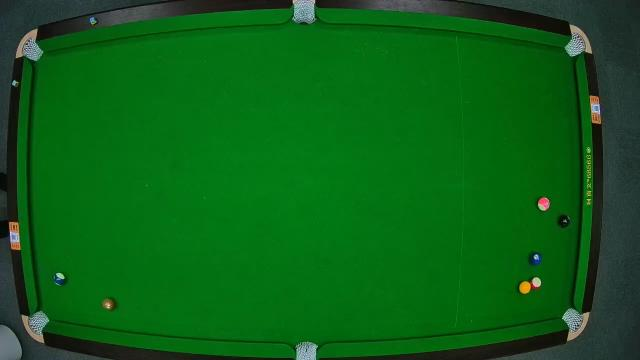bag1: (20, 40, 40, 60)
bag2: (292, 0, 316, 26)
bag3: (566, 35, 588, 56)
bag4: (28, 312, 50, 332)
bag5: (294, 340, 318, 360)
bag6: (562, 310, 582, 330)
ball1: (519, 280, 533, 295)
ball10: (52, 271, 68, 285)
ball12: (537, 196, 551, 212)
ball2: (528, 252, 542, 266), (530, 278, 542, 290)
ball7: (101, 297, 115, 311)
ball8: (558, 215, 572, 229)
